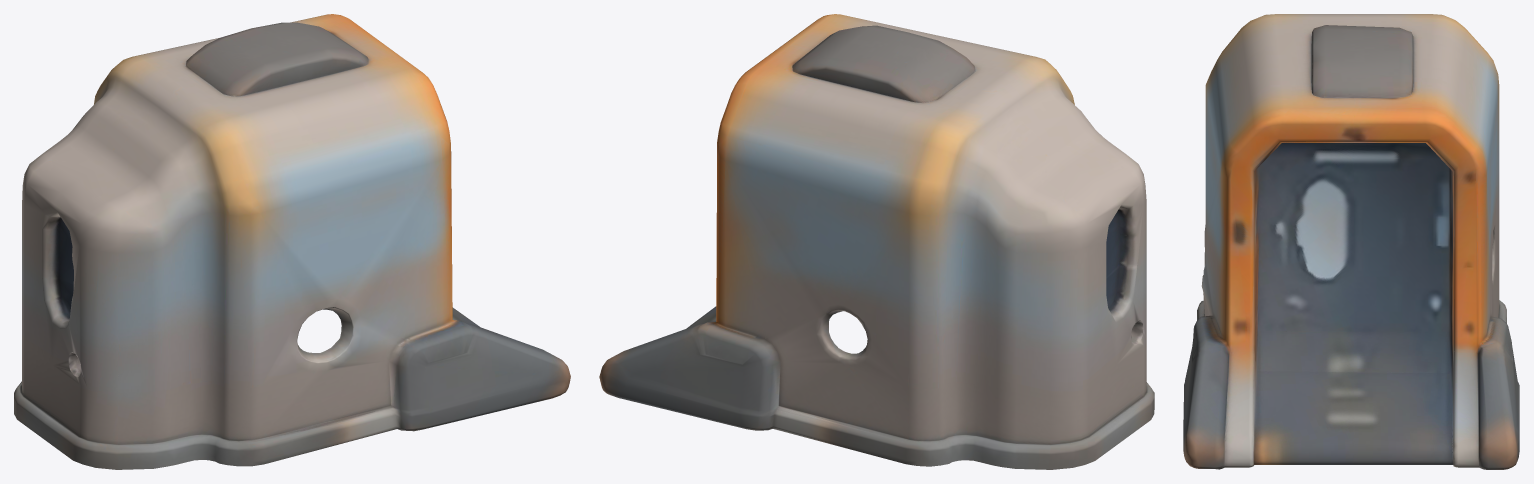
File: camp-door.glb
3 views of the same model, side by side, from view 1: azimuth 30°, elevation 25°; view 2: azimuth 150°, elevation 25°; view 3: azimuth 270°, elevation 25° (orthographic). The views are drawn at different scales.
Parts seen in each view (by area): view 1: tripo_node_7eb640ce-fd06-4fc4-add4-6c5f3d314748; view 2: tripo_node_7eb640ce-fd06-4fc4-add4-6c5f3d314748; view 3: tripo_node_7eb640ce-fd06-4fc4-add4-6c5f3d314748.
Part boxes in pixels (x1,y1,x2,y2): tripo_node_7eb640ce-fd06-4fc4-add4-6c5f3d314748: (14, 14, 570, 469); tripo_node_7eb640ce-fd06-4fc4-add4-6c5f3d314748: (599, 14, 1154, 469); tripo_node_7eb640ce-fd06-4fc4-add4-6c5f3d314748: (1183, 14, 1519, 469).
Size of the model in its own units: 0.998 by 0.7285 by 0.6738.
Materials: 1 (1 with a texture image).
